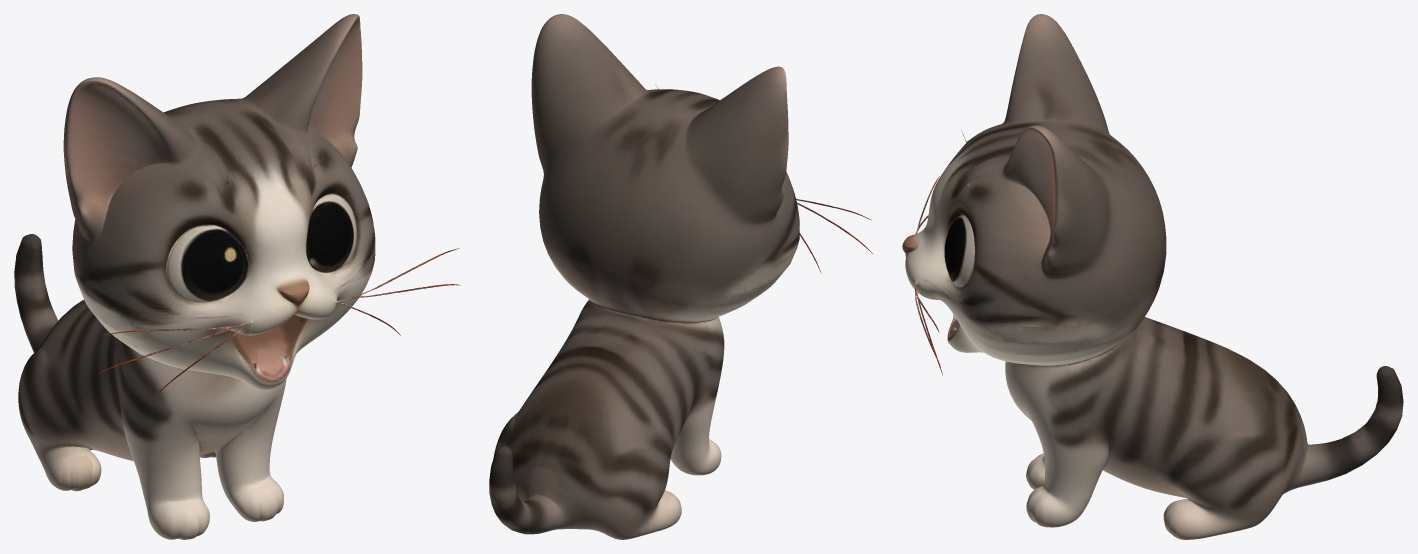
The model's file is cat.glb.
3 views of the same model, side by side, from view 1: azimuth 30°, elevation 25°; view 2: azimuth 150°, elevation 25°; view 3: azimuth 270°, elevation 25° (orthographic). The views are drawn at different scales.
Visible parts, largest first — view 1: model; view 2: model; view 3: model.
Part boxes in pixels (left/top/right/bottom): model: left=14, top=14, right=460, bottom=539; model: left=489, top=14, right=873, bottom=539; model: left=902, top=14, right=1403, bottom=539.
Size of the model in its own units: 1.43 by 1.81 by 1.9.
Materials: 1 (1 with a texture image).
